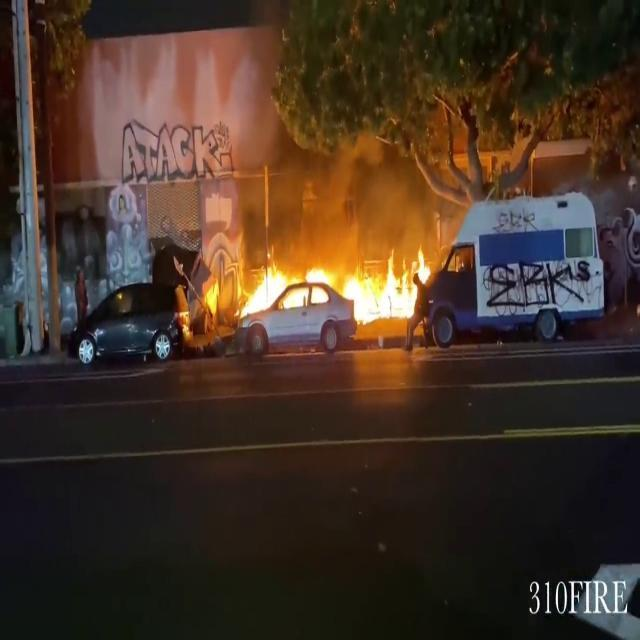Fire: (198, 248, 431, 338)
Smoke: (284, 122, 416, 248)
